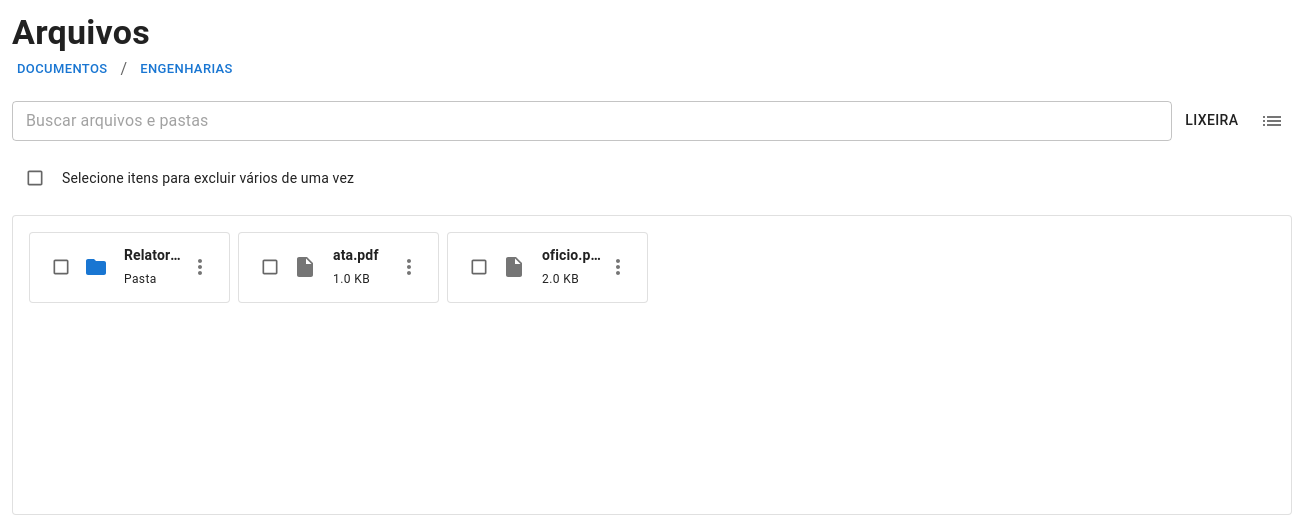
Test: FilesPage exclusao em lote › mostra quantos itens estao selecionados
Click the checkbox named "Selecionar ata.pdf" at (270, 267), box [260,257,280,277]
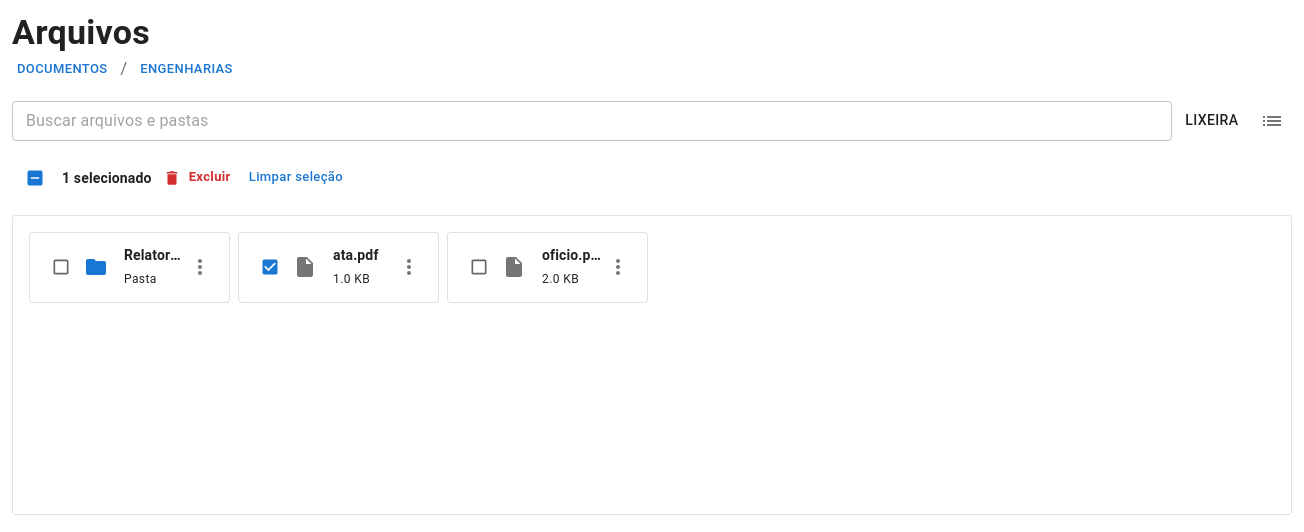
Result: the text "1 selecionado" is shown at [62,168,152,188]
Click the checkbox named "Selecionar oficio.pdf" at (479, 267), box [469,257,489,277]
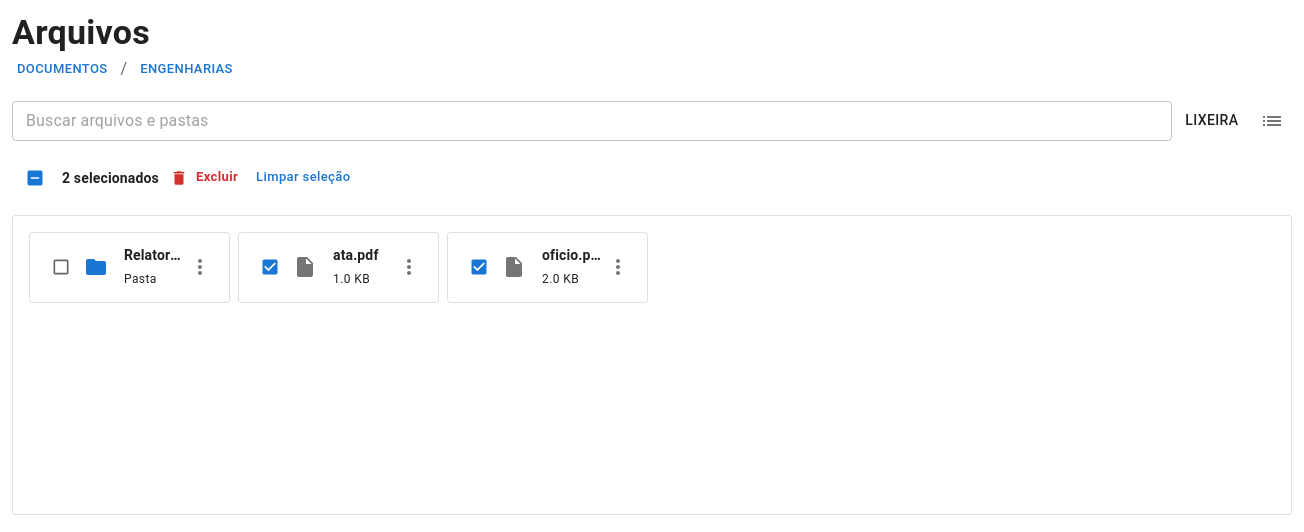
Result: the text "2 selecionados" is shown at [62,168,159,188]
